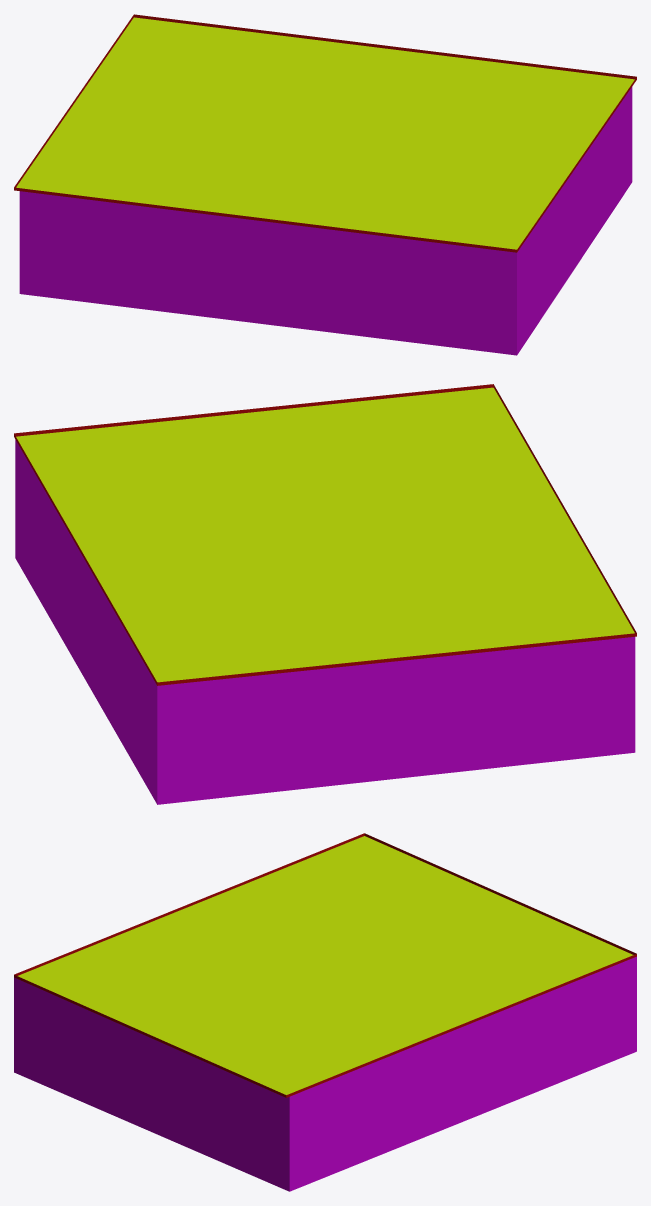
The picture shows the model from 3 angles, top to bottom: view 1: azimuth 30°, elevation 25°; view 2: azimuth 150°, elevation 25°; view 3: azimuth 270°, elevation 25°; orthographic projection. The views are drawn at different scales.
Visible parts, largest first — view 1: sc_9; view 2: sc_9; view 3: sc_9.
Part boxes in pixels (bbox=[...]): sc_9: bbox=[14, 14, 636, 355]; sc_9: bbox=[14, 384, 636, 804]; sc_9: bbox=[14, 833, 636, 1191].
Size of the model in its own units: 71.51 by 12.45 by 71.85.
